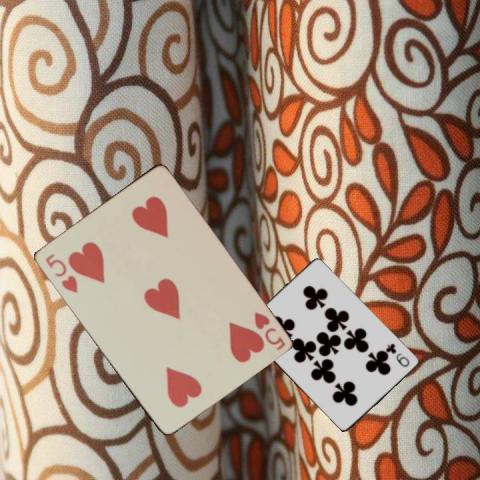5h: (41, 250, 80, 295), (251, 308, 286, 352)
9c: (384, 340, 411, 368)
